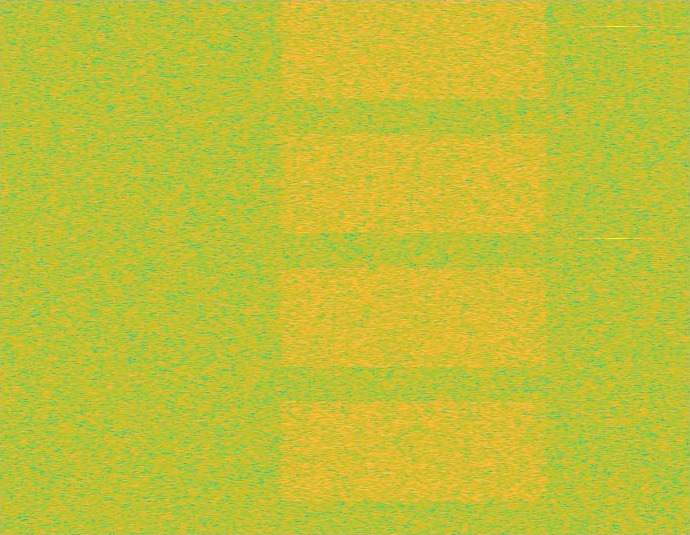5G: (276, 0, 552, 534)
Radar: (610, 0, 624, 534)
